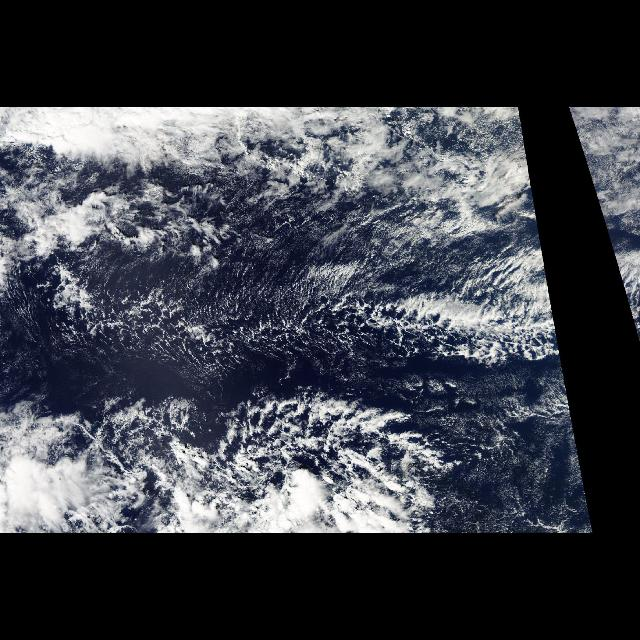Fish: (8, 223, 562, 469), (600, 224, 634, 328)
Sugar: (203, 175, 441, 288), (431, 383, 594, 533)
